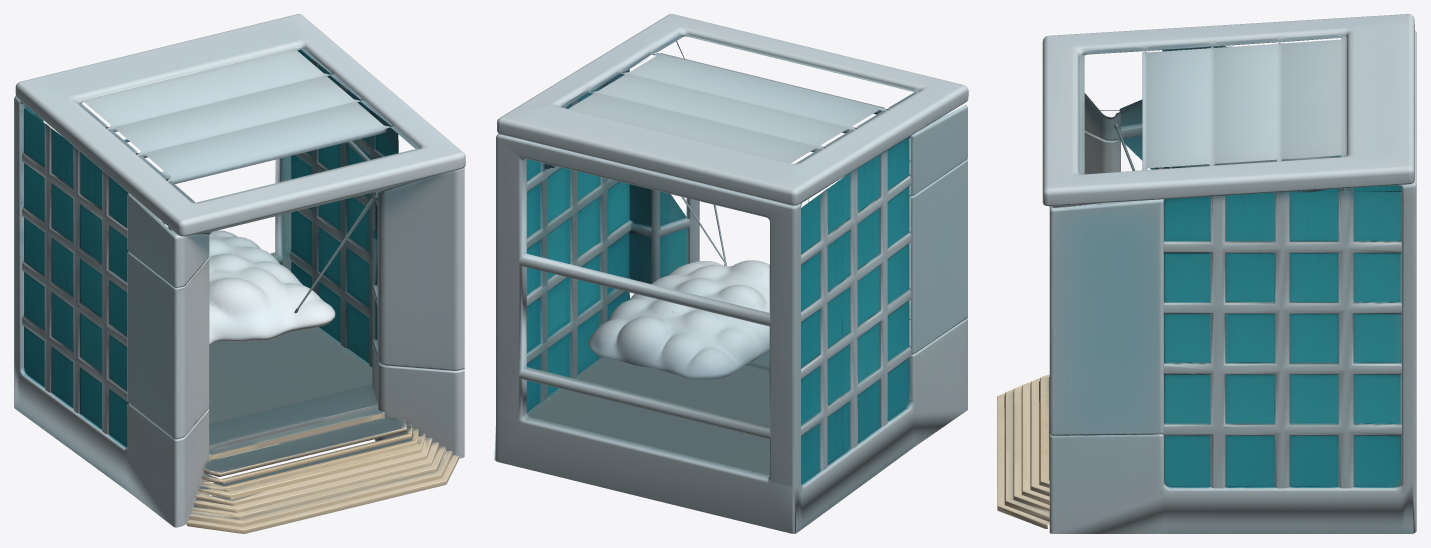
Rendered from GrandeArche.glb.
3 renders of one model, left to right at view 1: azimuth 30°, elevation 25°; view 2: azimuth 150°, elevation 25°; view 3: azimuth 270°, elevation 25°, orthographic. The views are drawn at different scales.
Parts seen in each view (by area): view 1: b905a377_cd40_4104_a611_1e1ad74bfc7d; view 2: b905a377_cd40_4104_a611_1e1ad74bfc7d; view 3: b905a377_cd40_4104_a611_1e1ad74bfc7d.
Boxes of the visible parts, <box> form: b905a377_cd40_4104_a611_1e1ad74bfc7d: <box>14,14,465,533</box>; b905a377_cd40_4104_a611_1e1ad74bfc7d: <box>494,14,968,533</box>; b905a377_cd40_4104_a611_1e1ad74bfc7d: <box>997,14,1416,533</box>.
Size of the model in its own units: 0.8931 by 0.9585 by 0.9995.
Materials: 1 (1 with a texture image).
